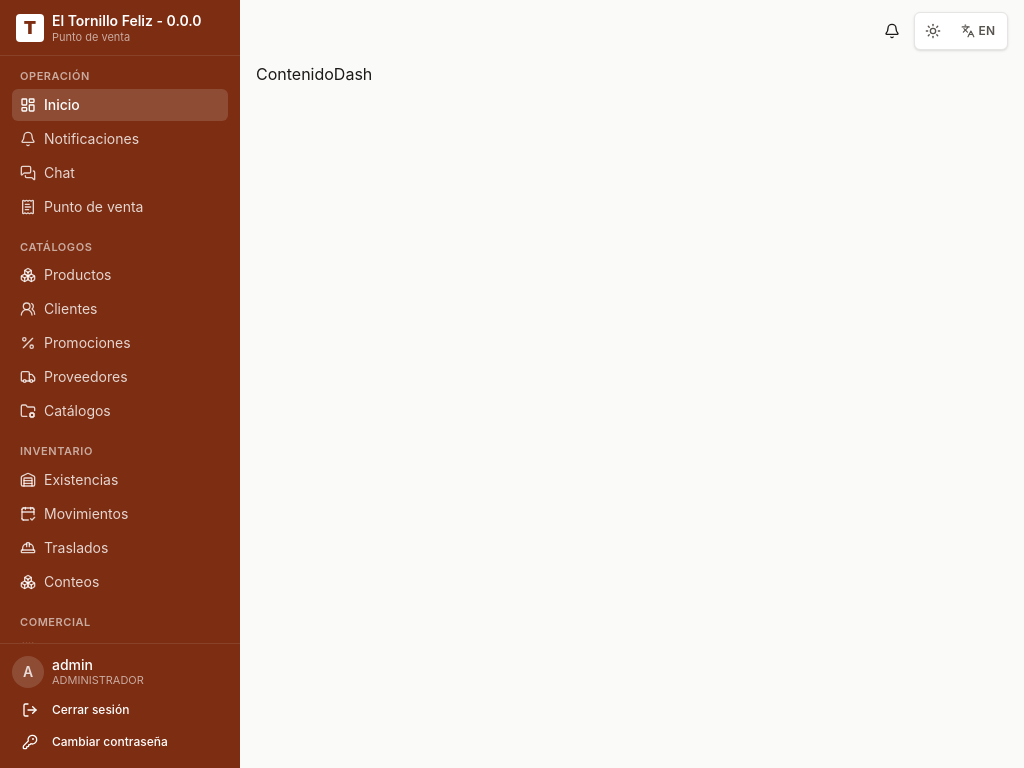
Test: AppShell › alterna tema e idioma desde Preferencias
expect the button "EN" is shown: met, box x1=953 y1=19 x2=1003 y2=43
Click the button named "Cambiar tema" at coordinates (933, 31), box x1=919 y1=17 x2=947 y2=45
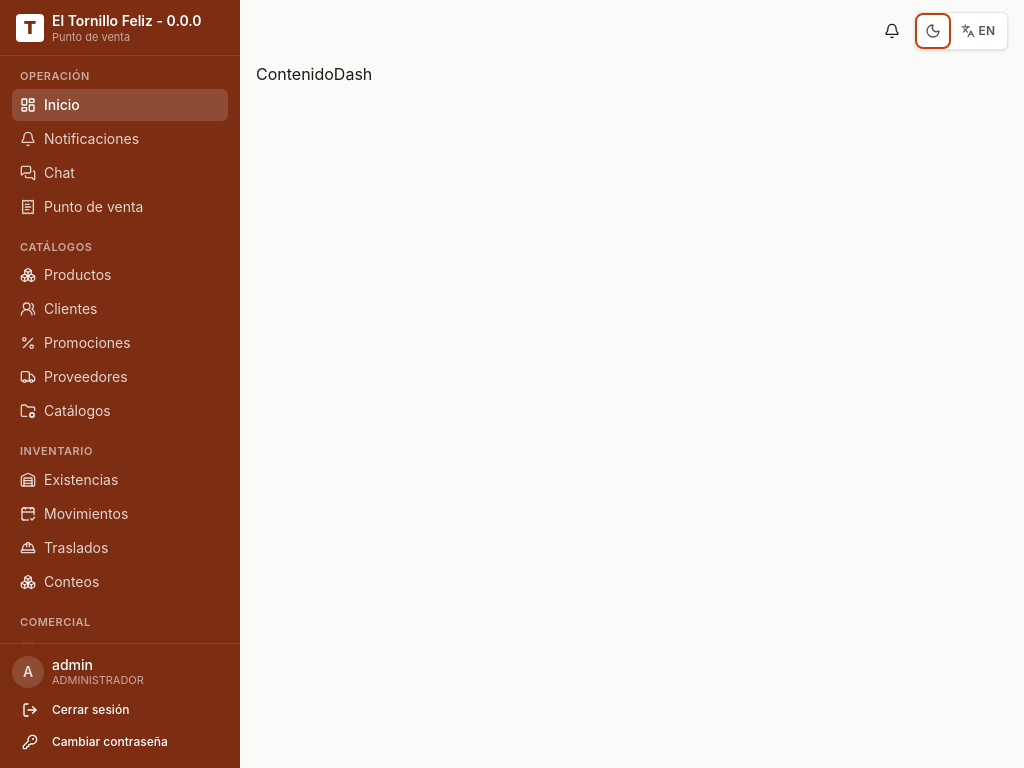
Click the button with aria-label "Cambiar idioma" at coordinates (978, 31), box x1=953 y1=19 x2=1003 y2=43
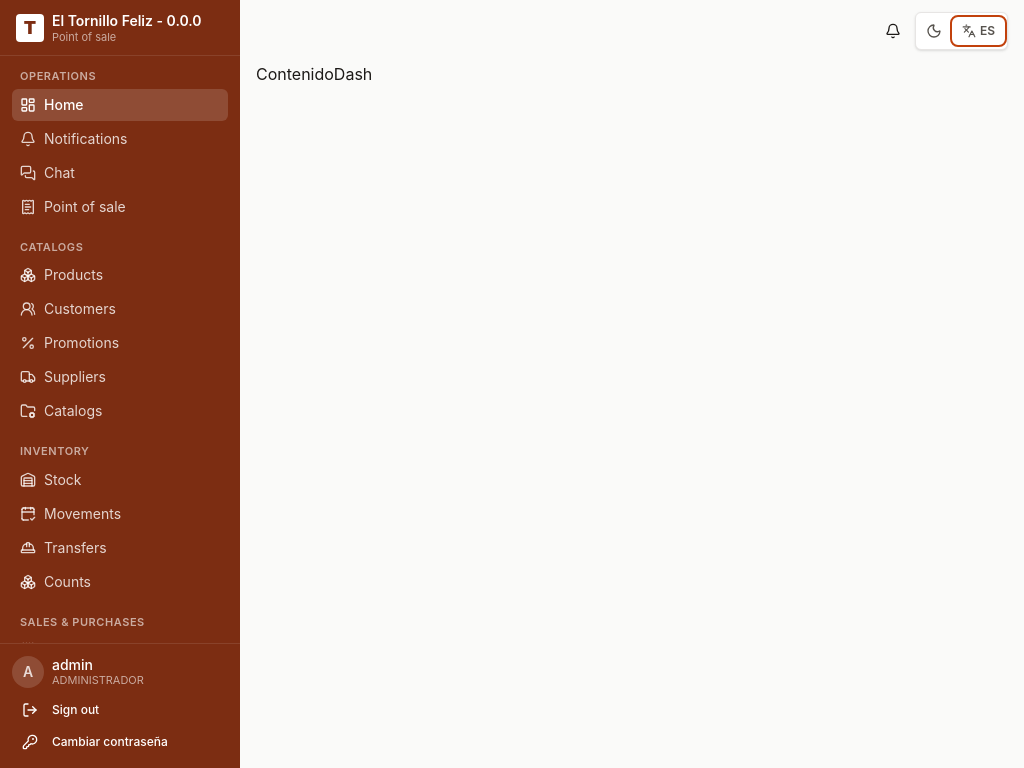
expect the button "ES" is shown: met, box x1=954 y1=19 x2=1003 y2=43
